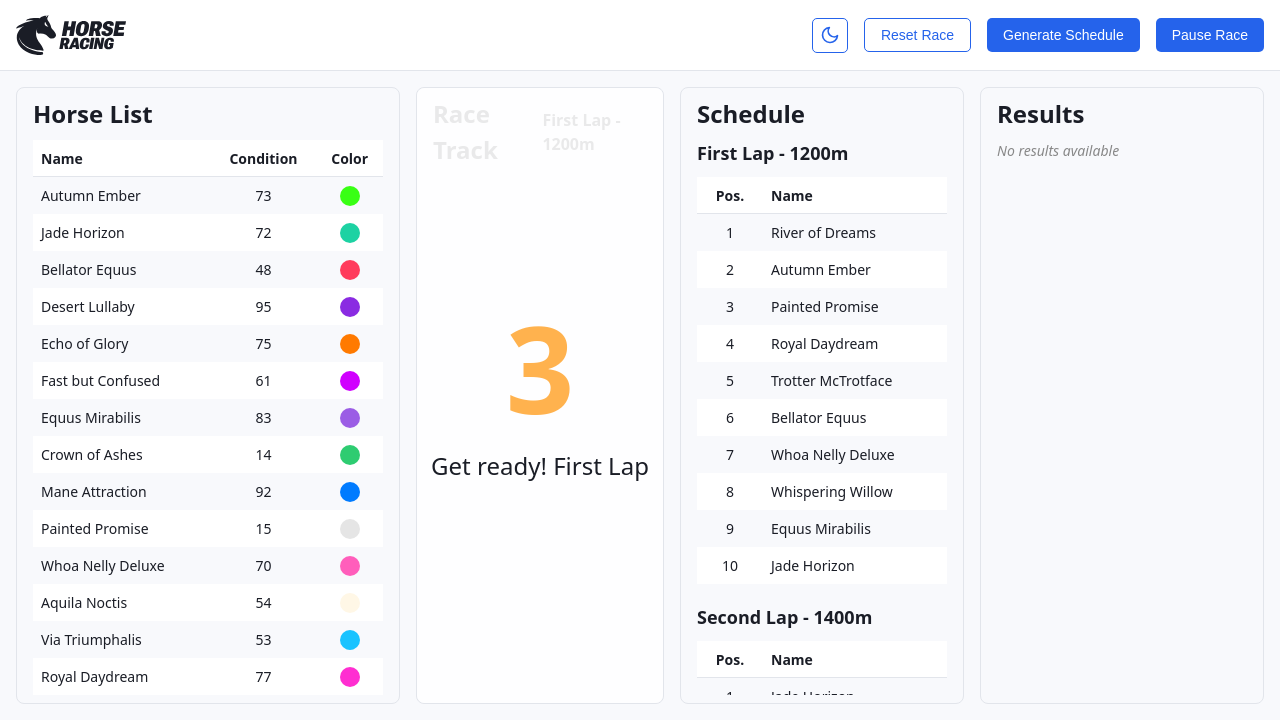
Test case: Race Flow › can pause during countdown
This screenshot has width=1280, height=720.
Click the button "Pause Race". click: point(1210, 35)
box: [1156, 18, 1264, 52]
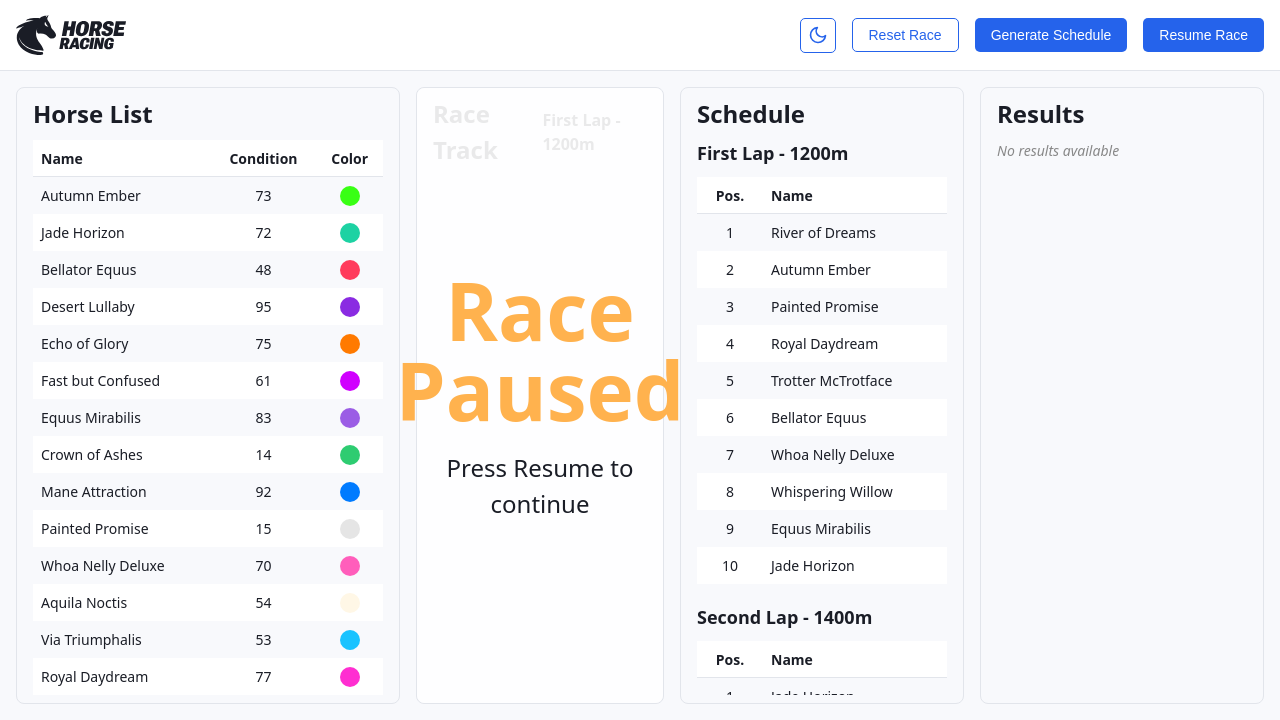
Expected: the text "Race Paused" is shown, [396, 270, 684, 430]
